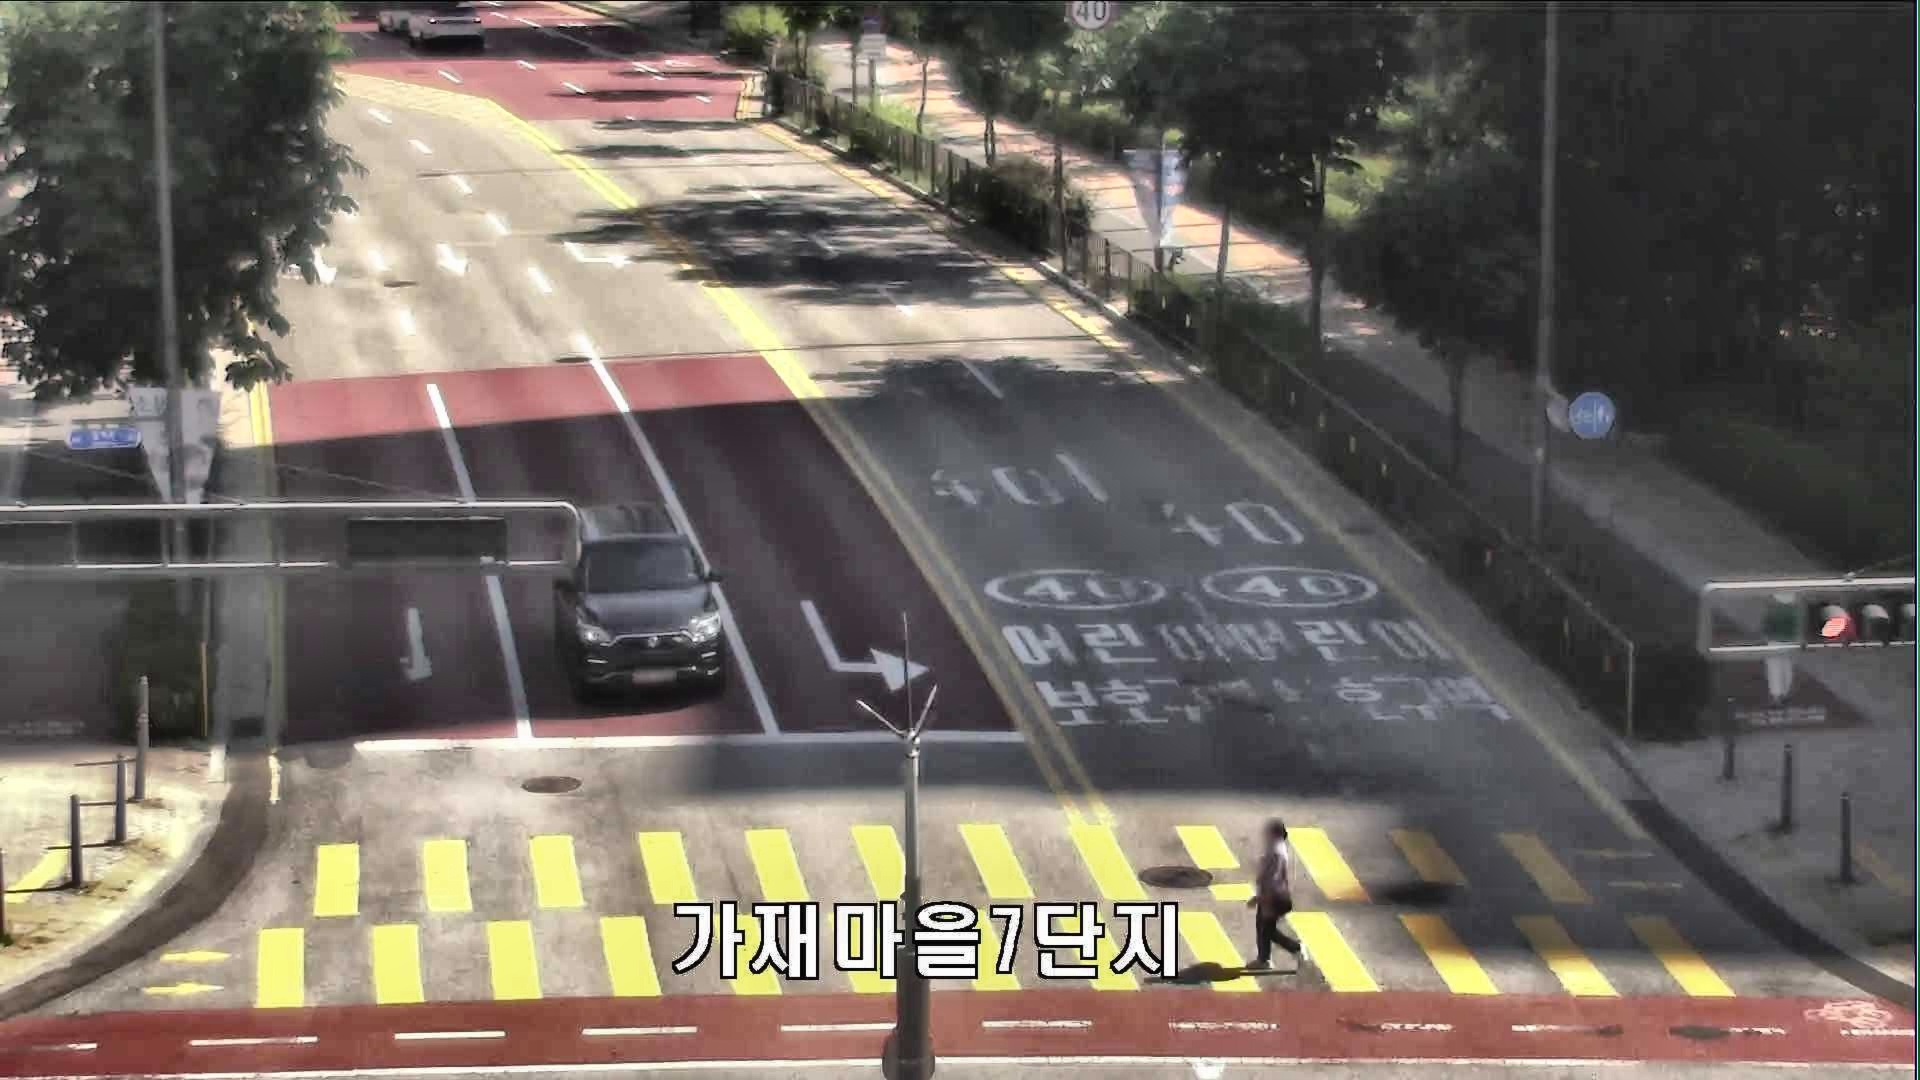crosswalk: (1240, 811, 1309, 975)
sidewalk: (1751, 578, 1800, 717)
